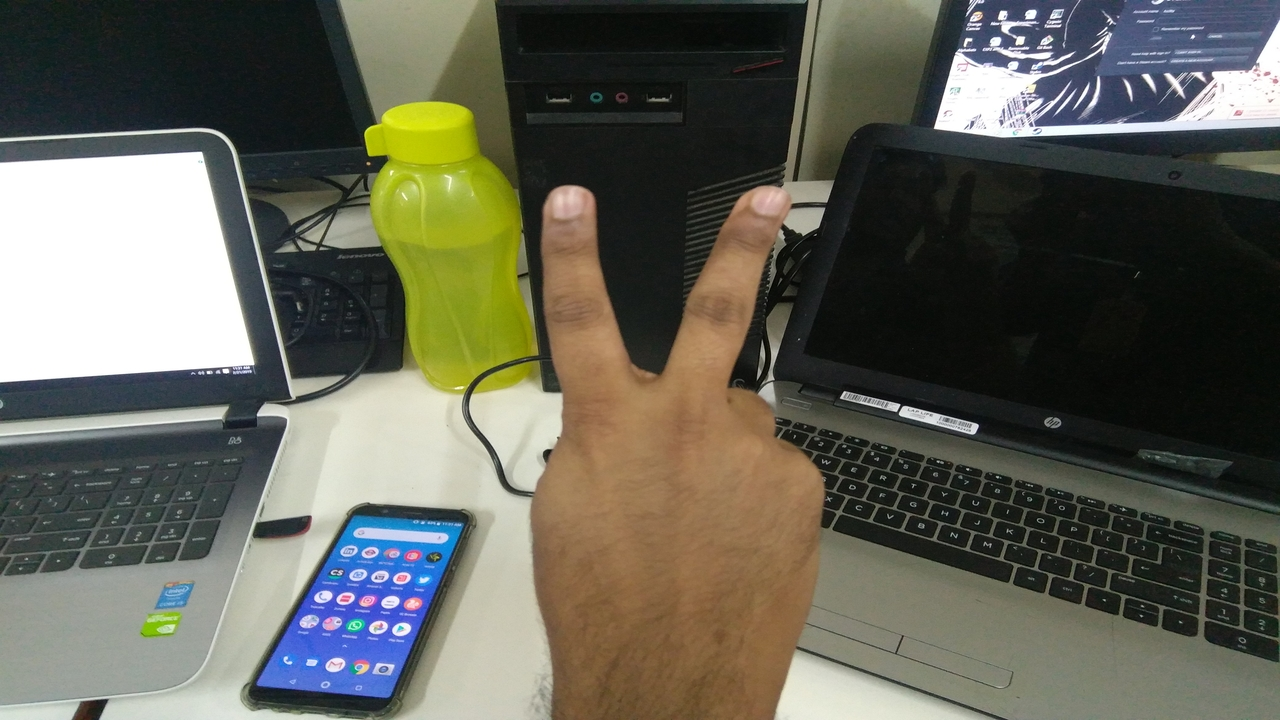fingertip: (728, 172, 802, 238), (530, 180, 600, 240)
